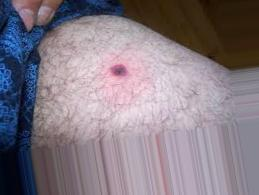Tick: (108, 64, 128, 80)
